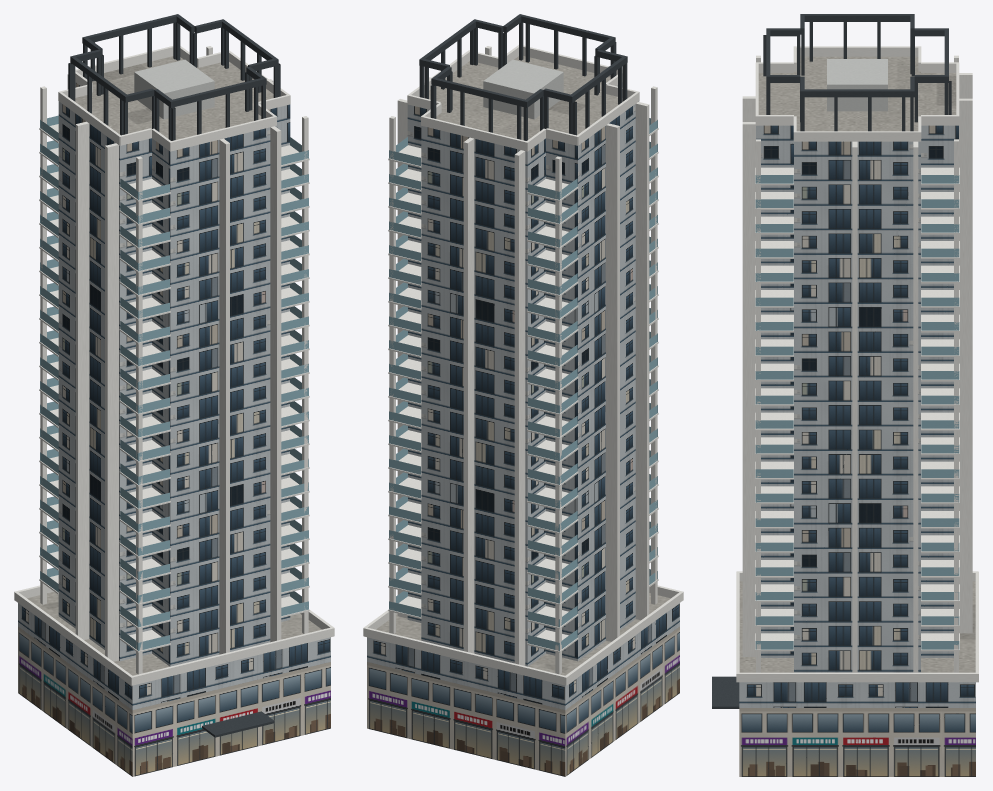
File: OW_CaoOc_CH_GocLom_82.fbx
3 views of the same model, side by side, from view 1: azimuth 30°, elevation 25°; view 2: azimuth 150°, elevation 25°; view 3: azimuth 270°, elevation 25° (orthographic). The views are drawn at different scales.
Parts seen in each view (by area): view 1: OW_CaoOc_CH_GocLom_82_LOD0; view 2: OW_CaoOc_CH_GocLom_82_LOD0; view 3: OW_CaoOc_CH_GocLom_82_LOD0.
Part boxes in pixels (x1,y1,x2,y2): OW_CaoOc_CH_GocLom_82_LOD0: (14,14,334,776); OW_CaoOc_CH_GocLom_82_LOD0: (363,14,683,776); OW_CaoOc_CH_GocLom_82_LOD0: (712,14,978,776).
Size of what is drawn, in the model's own units: 28.7 by 88 by 31.55.
